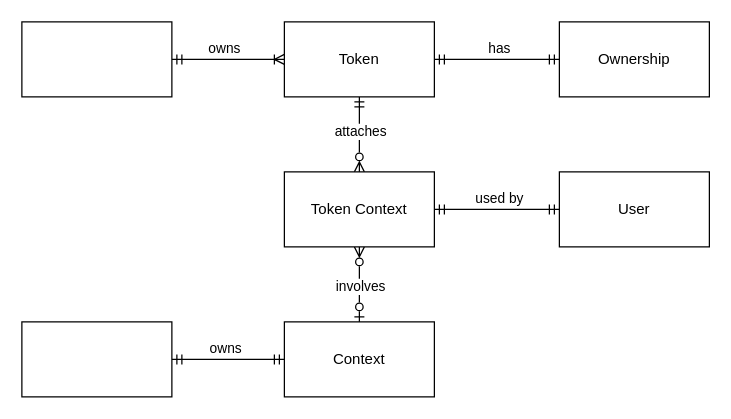
This 731x419 diagram has some shape labels left out. The shapes that lost their labels are listed below. From the top down, each one's centre as x and y in pixels, then its label:
At point 96,59: "Owner".
At point 96,359: "Controller".
